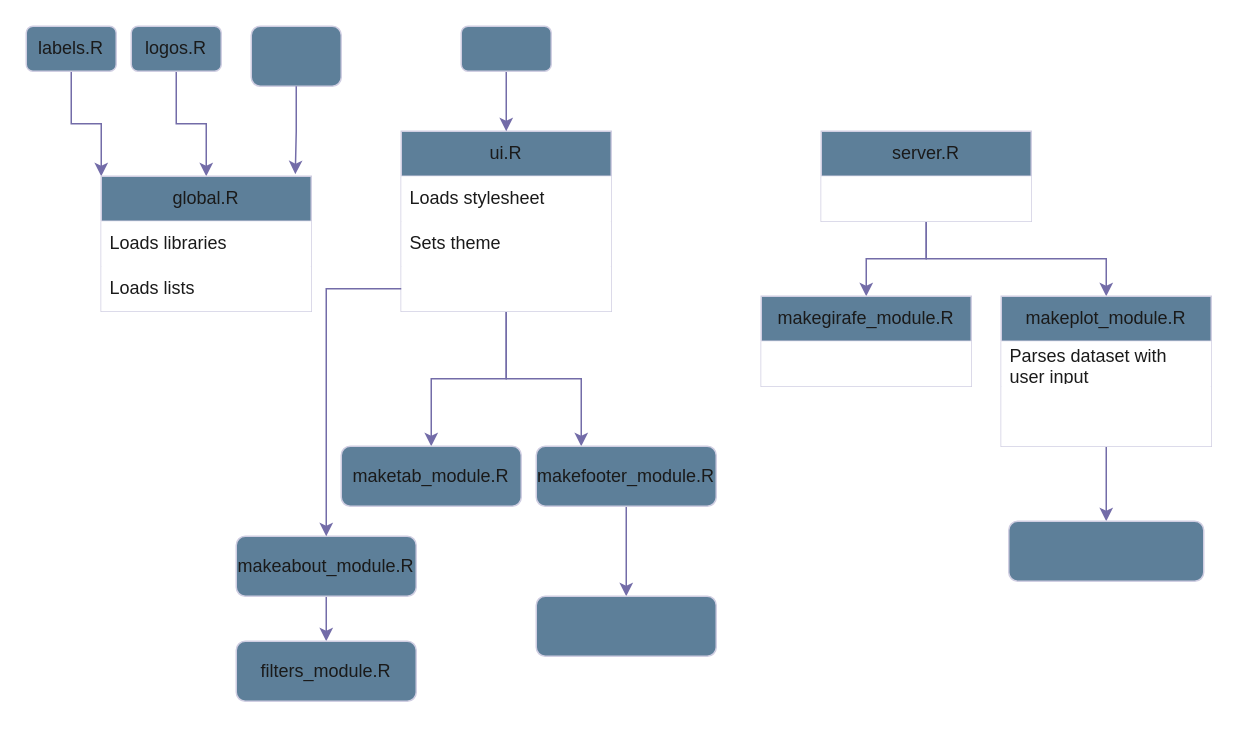
The diagram is 1238 pixels wide and 729 high, and some of its shapes have lost their labels. Each missing label, with the centre of its shape:
"Converts ggplots into interactive plots" belongs at point 865,363.
"Creates menu and tabs" belongs at point 505,288.
"Creates plot layout" belongs at point 925,198.
"dataset" belongs at point 295,55.
"makelogos_module.R" belongs at point 625,625.
"makeylabels_module.R" belongs at point 1105,550.
"Renders individual ggplots" belongs at point 1105,416.
"styles.css" belongs at point 505,48.
